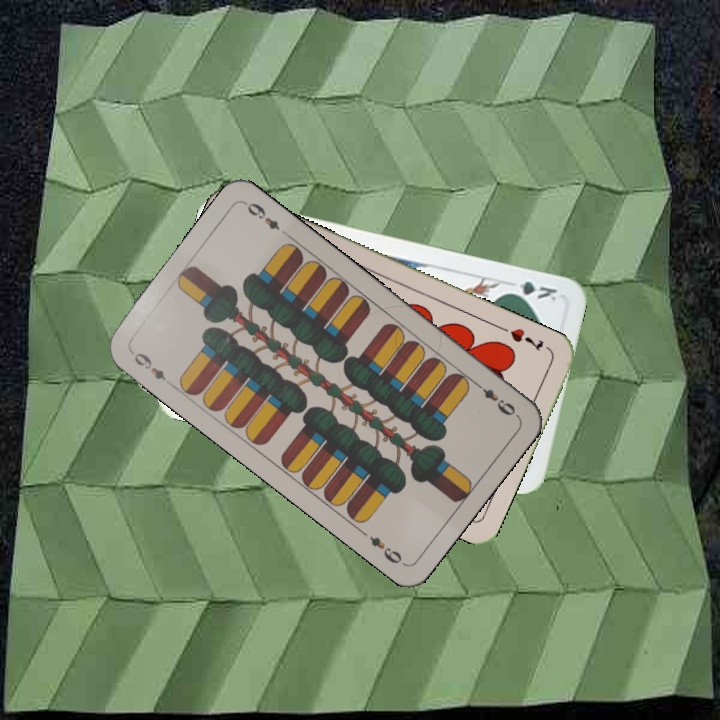E9: (470, 377, 520, 419), (130, 348, 169, 384)
GK: (502, 276, 560, 304)
H7: (495, 322, 546, 354)
